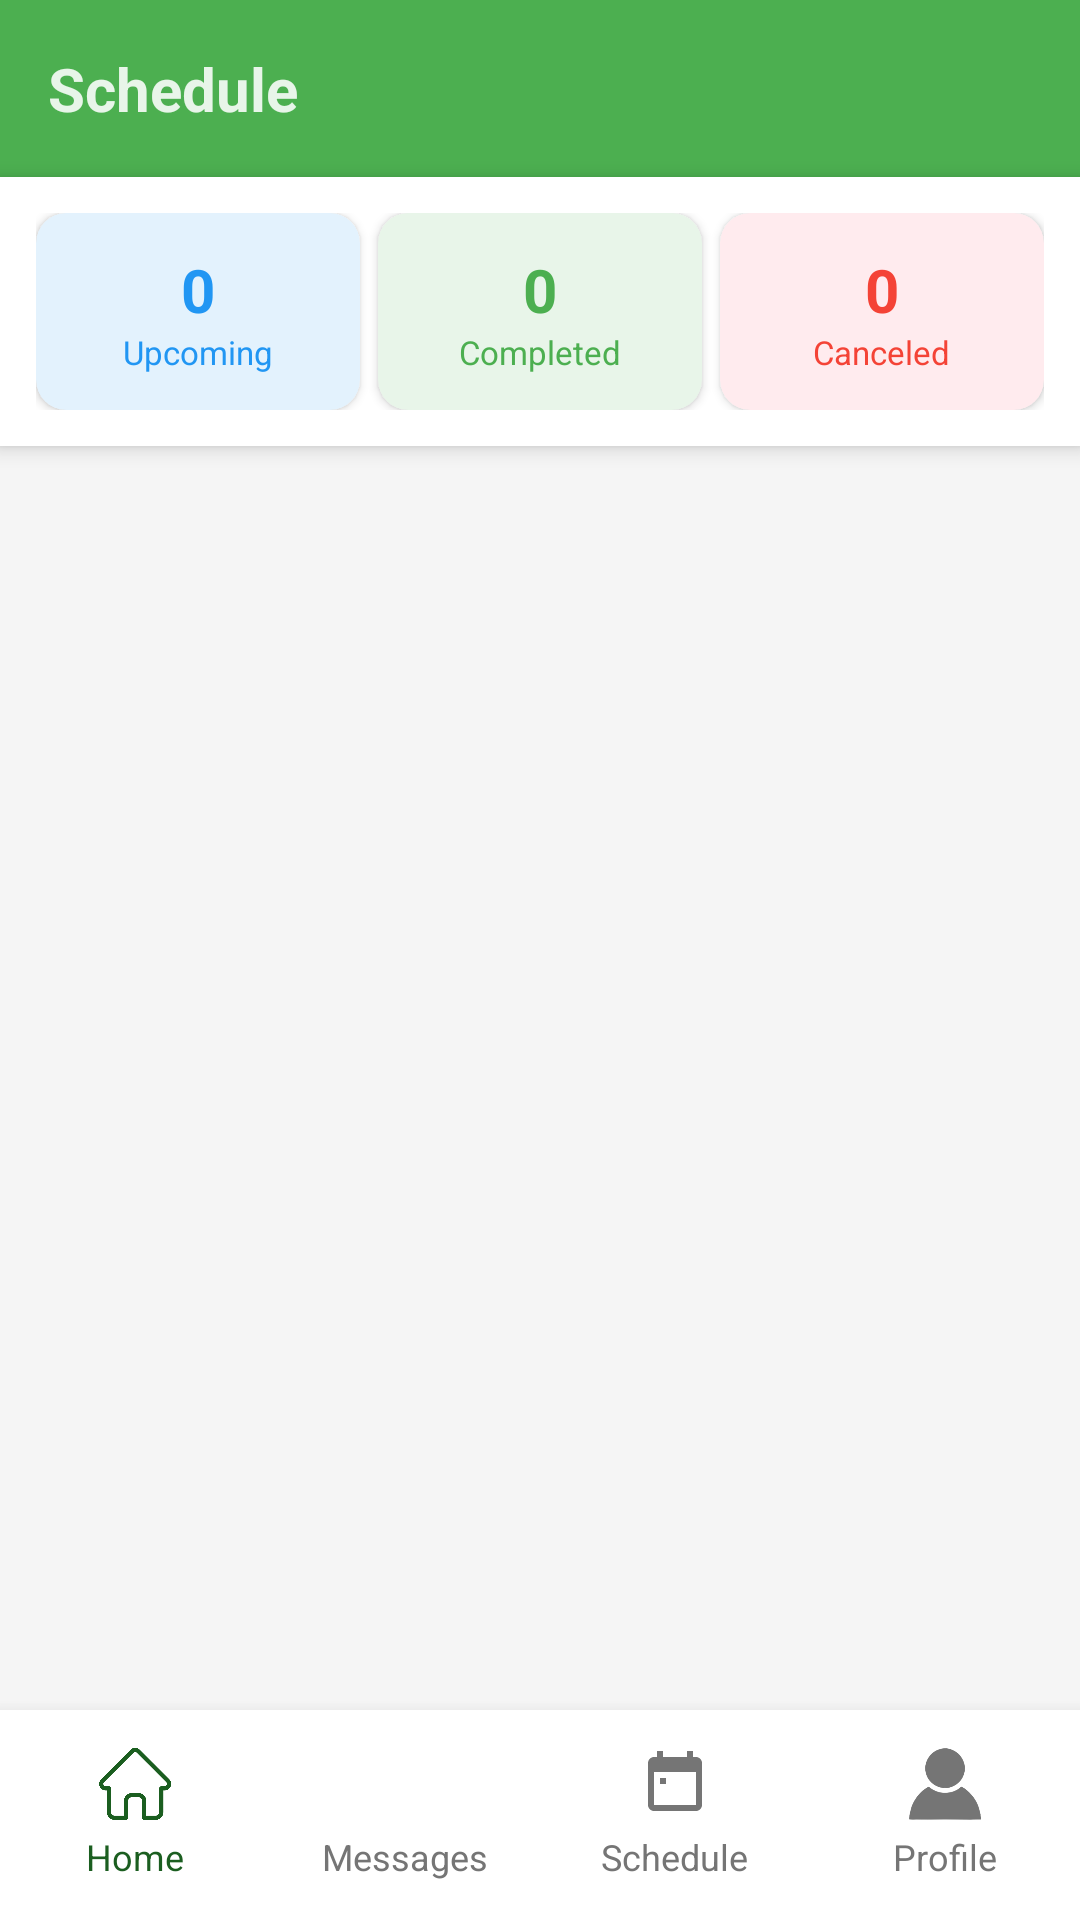

Named icons in this screenshot (1080w x 1920h) and their bounding boxes, [x1,y1,x2,y2]:
calendar: [648,1751,702,1811]
